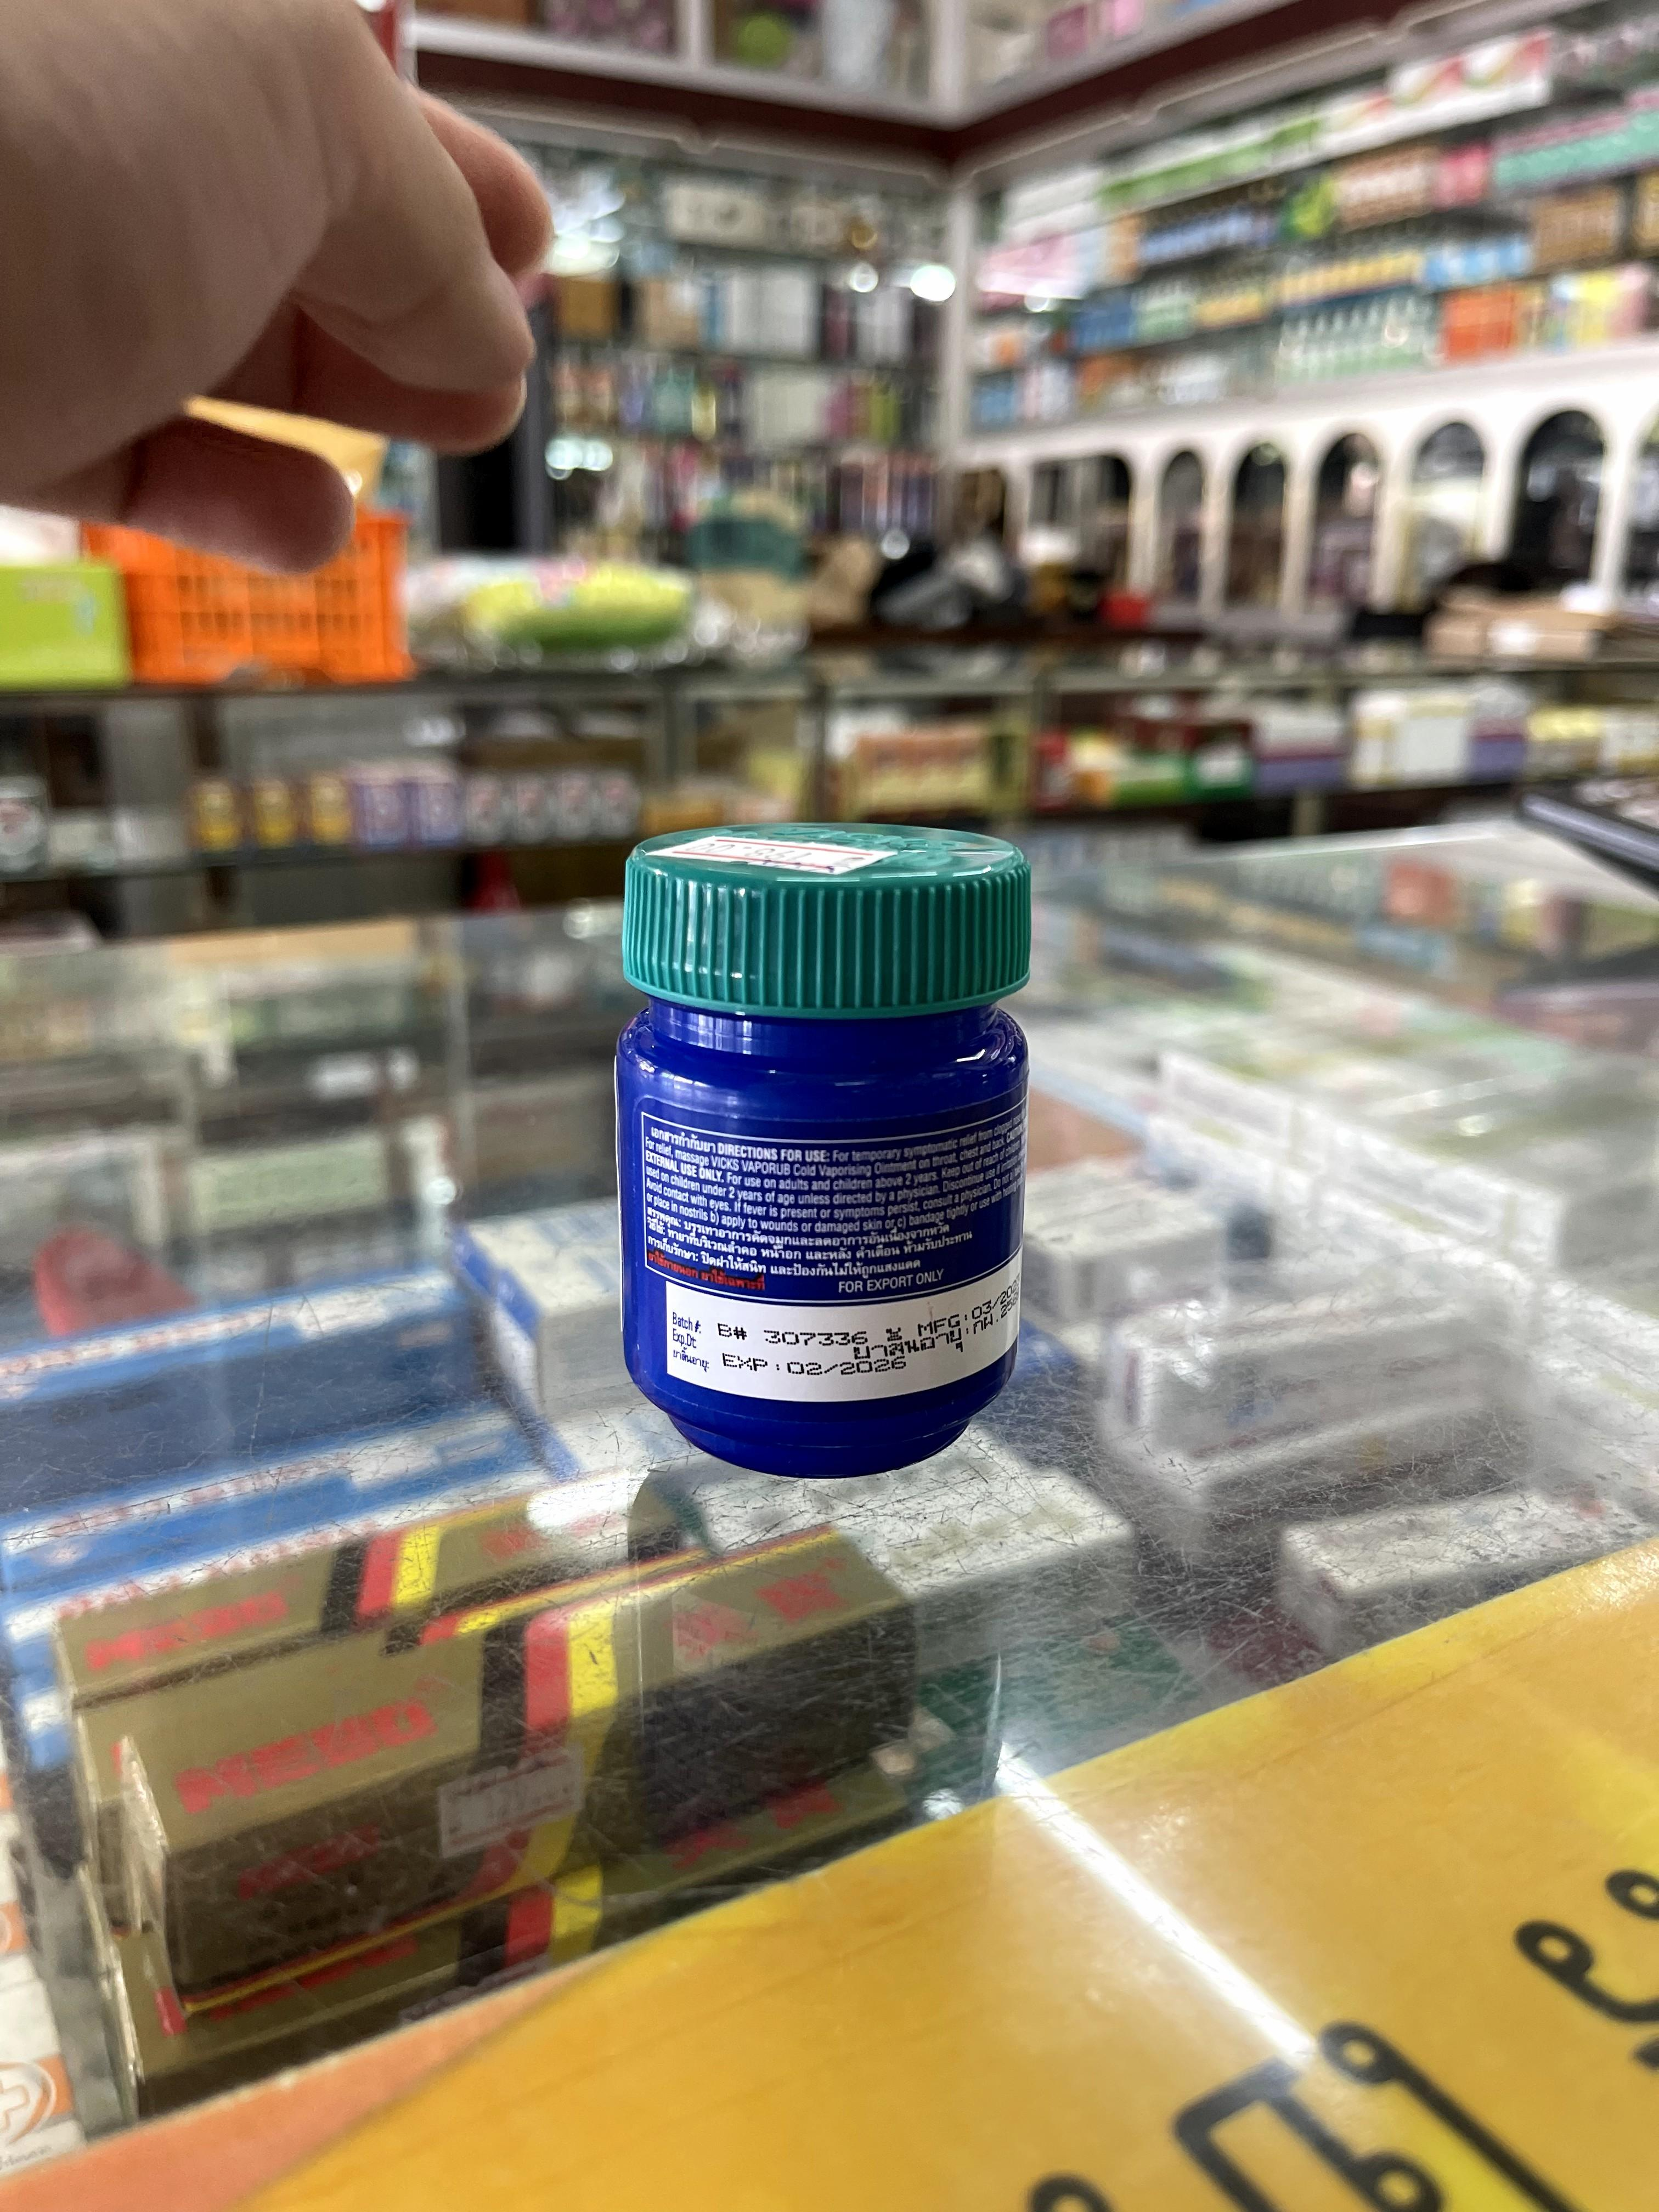VapoRub_Big: (617, 820, 1033, 1474)
